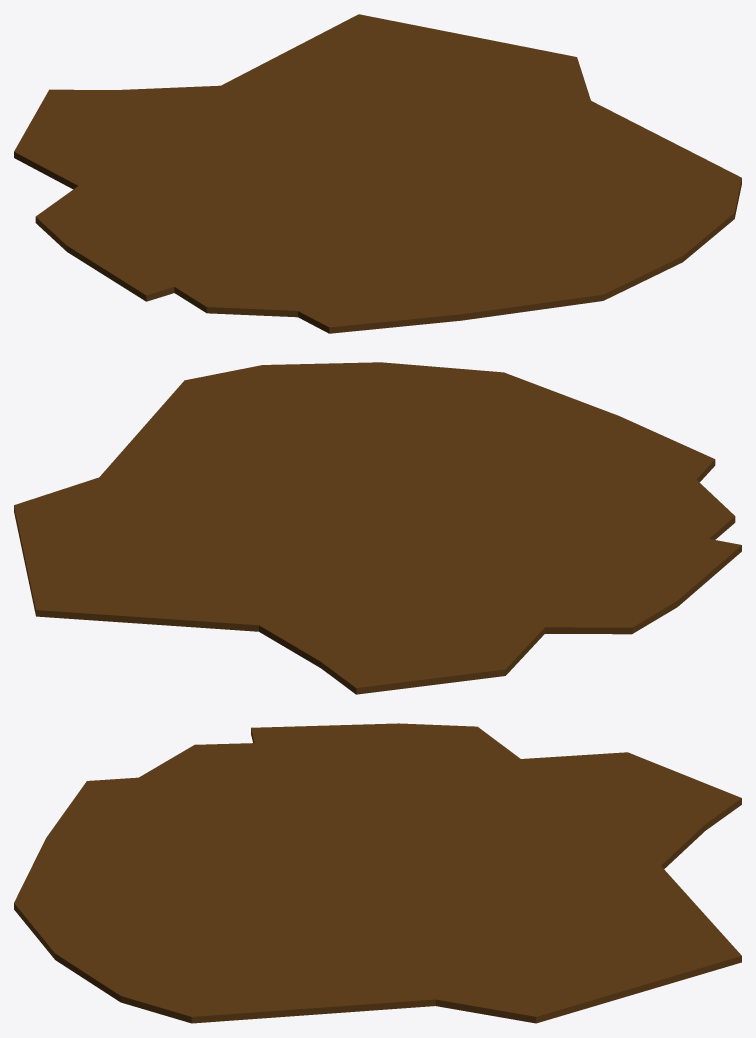
File: vGround.fbx
3 views of the same model, one above another, from view 1: azimuth 30°, elevation 25°; view 2: azimuth 150°, elevation 25°; view 3: azimuth 270°, elevation 25° (orthographic). The views are drawn at different scales.
Parts seen in each view (by area): view 1: 平面.001; view 2: 平面.001; view 3: 平面.001.
Boxes of the visible parts, x1,y1,x2,y2 form: 平面.001: [14, 14, 741, 333]; 平面.001: [14, 362, 741, 694]; 平面.001: [14, 723, 741, 1023].
Bounding box in the file's own units: 1163 × 12.19 × 1219.
